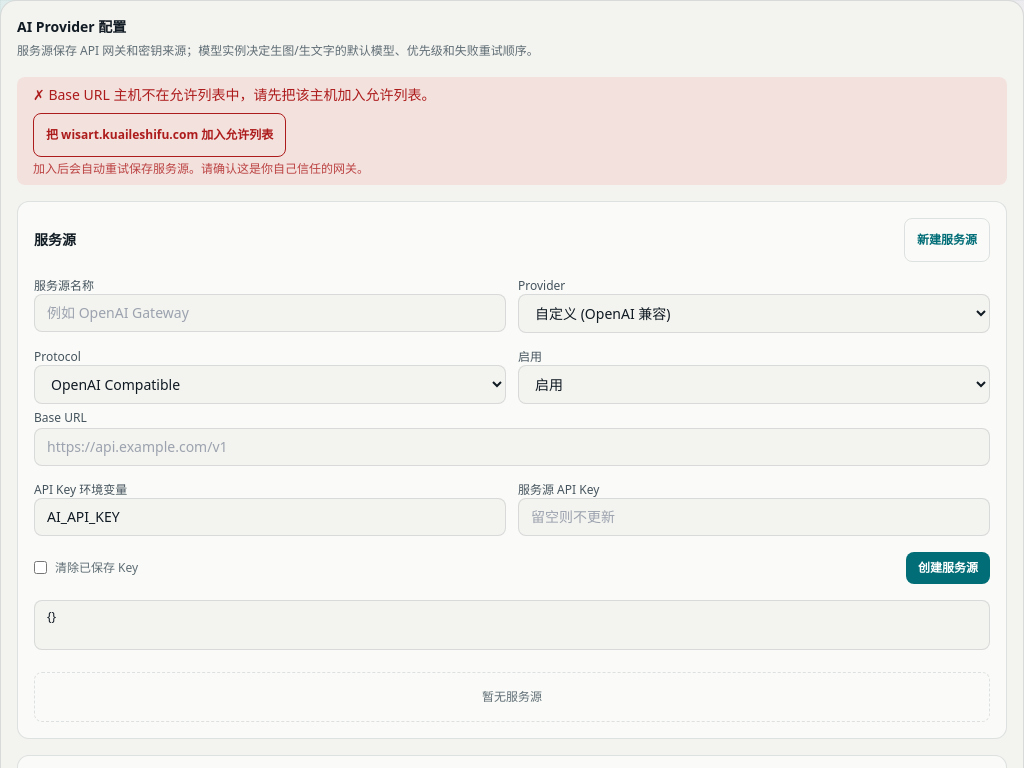
保存服务源被拒后的一键加入 › 私网主机被拒时不重试保存，只展示原因
This screenshot has width=1024, height=768.
Click the button "把 wisart.kuaileshifu.com 加入允许列表" at coordinates (160, 134), box [33, 112, 286, 156]
(page scrolled)
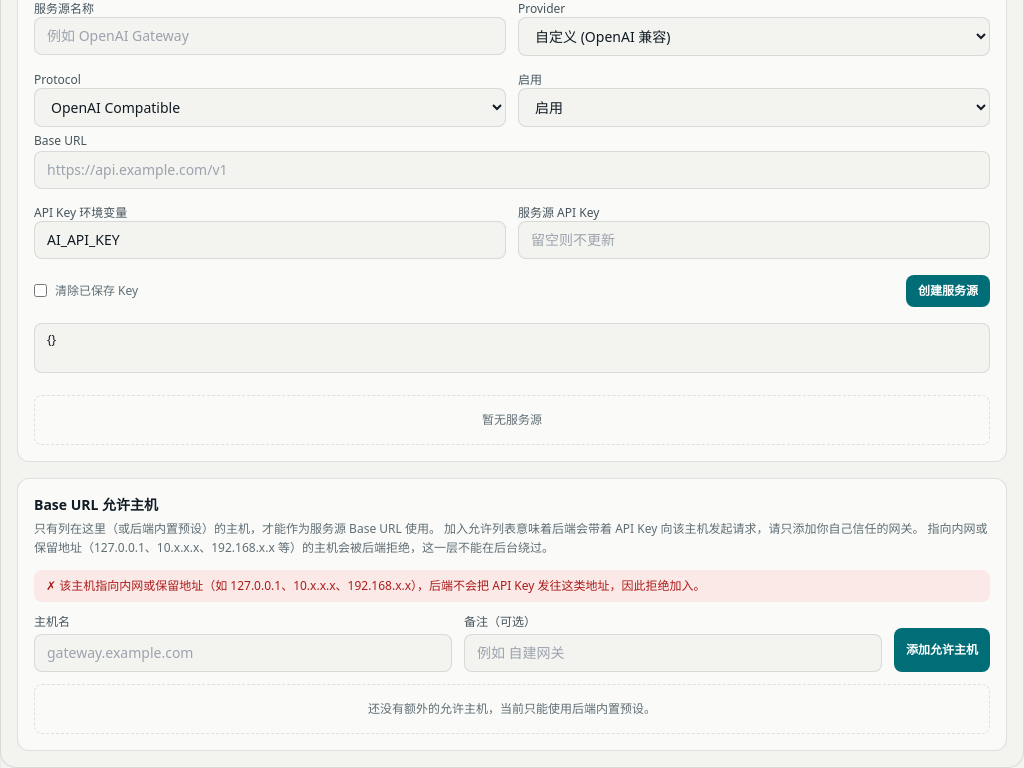
Result: the text "✗ 该主机指向内网或保留地址（如 127.0.0.1、10.x.x.x、192.168.x.x），后端不会把 API Key 发往这类地址，因此拒绝加入。" is shown at [34, 570, 990, 602]
